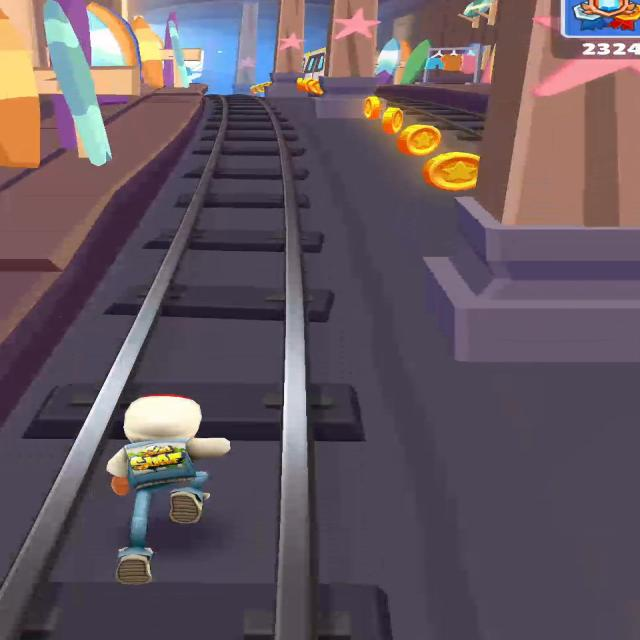block pillar: (423, 0, 639, 362), (315, 0, 379, 118), (267, 0, 305, 97), (234, 0, 257, 90)
train: (303, 48, 325, 79)
